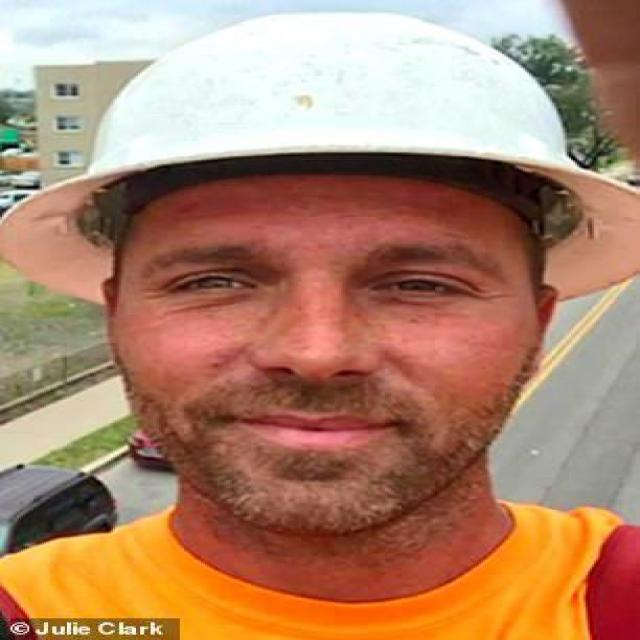hat: (2, 14, 632, 303)
